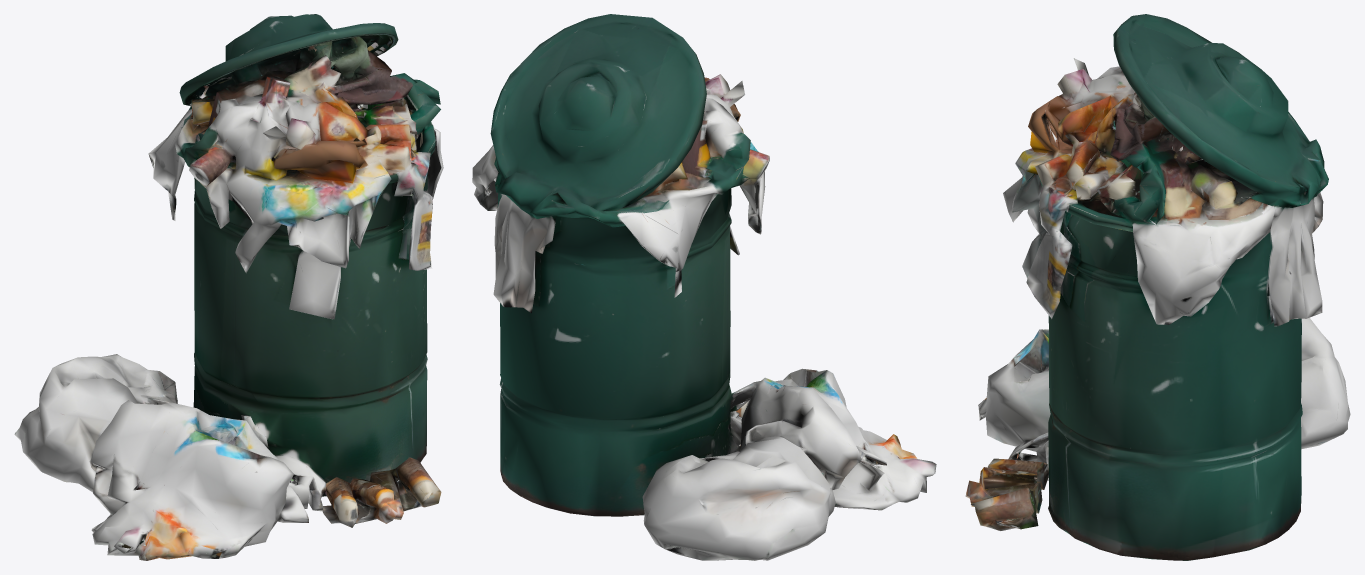
File: cöpkutusu1.fbx
The picture shows the model from 3 angles, left to right: view 1: azimuth 30°, elevation 25°; view 2: azimuth 150°, elevation 25°; view 3: azimuth 270°, elevation 25°; orthographic projection. The views are drawn at different scales.
Parts seen in each view (by area): view 1: Mesh_0; view 2: Mesh_0; view 3: Mesh_0.
Part boxes in pixels (left/top/right/bottom): Mesh_0: left=14, top=14, right=443, bottom=560; Mesh_0: left=472, top=14, right=936, bottom=560; Mesh_0: left=965, top=14, right=1350, bottom=560.
Size of the model in its own units: 177 by 192 by 140.
Materials: 1 (1 with a texture image).
